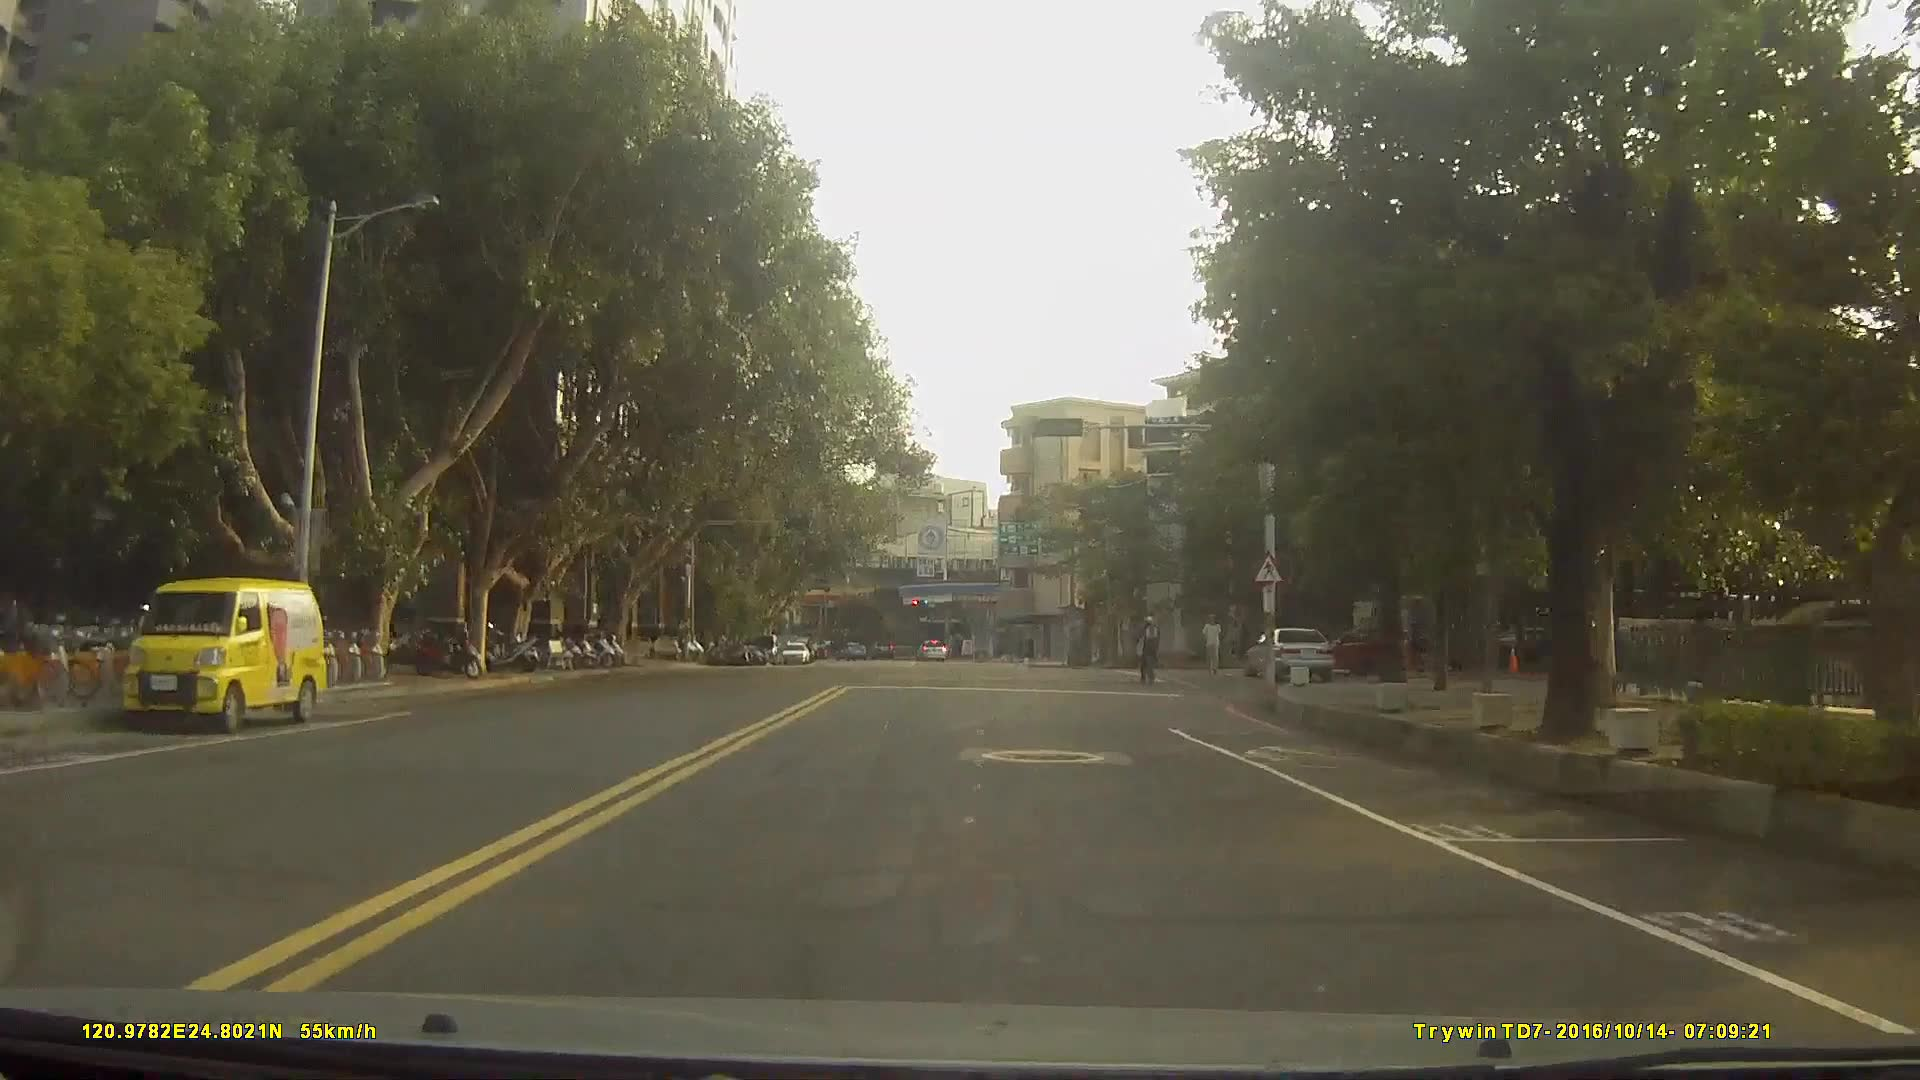pedestrian: (1202, 615, 1229, 684)
rider: (1137, 617, 1165, 687)
vehicle: (1243, 626, 1331, 684), (915, 637, 946, 661), (779, 640, 810, 662)
